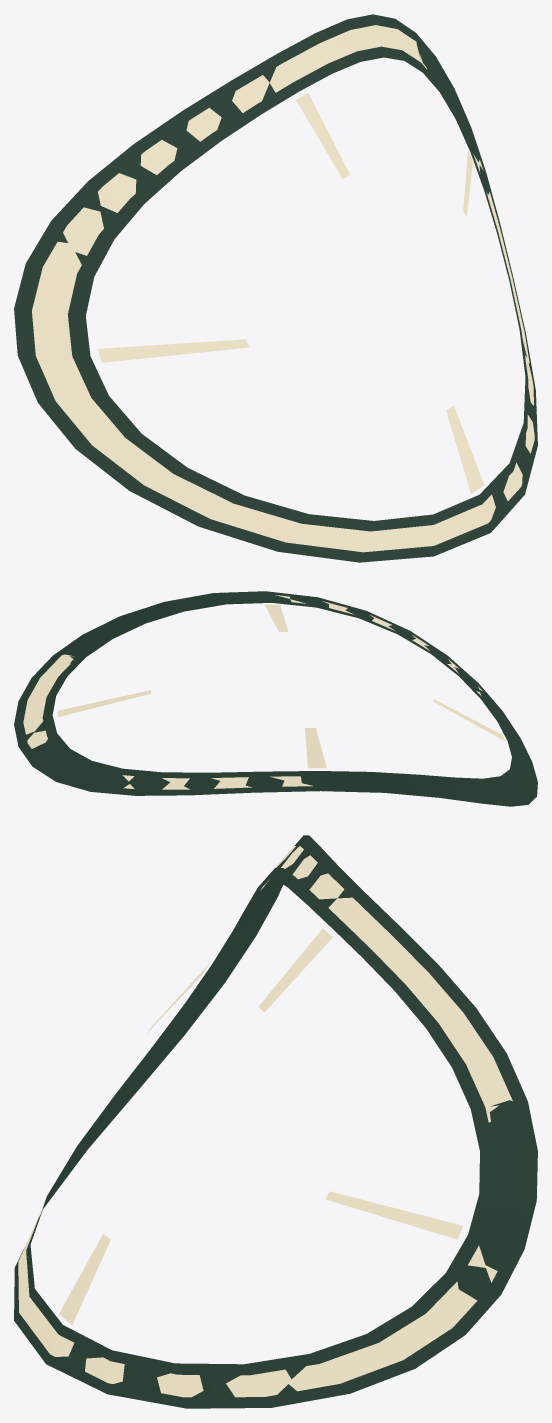
Rendered from giant_weak_point.glb.
The picture shows the model from 3 angles, top to bottom: view 1: azimuth 30°, elevation 25°; view 2: azimuth 150°, elevation 25°; view 3: azimuth 270°, elevation 25°; orthographic projection. The views are drawn at different scales.
Parts seen in each view (by area): view 1: Visible seam boundary, Ivory aiming stitch; view 2: Visible seam boundary, Ivory aiming stitch; view 3: Visible seam boundary, Ivory aiming stitch.
Boxes of the visible parts, x1,y1,x2,y2 form: Visible seam boundary: (14, 14, 537, 562); Ivory aiming stitch: (32, 25, 534, 552); Visible seam boundary: (14, 591, 537, 806); Ivory aiming stitch: (23, 595, 504, 789); Visible seam boundary: (14, 835, 537, 1408); Ivory aiming stitch: (18, 846, 512, 1397).
Size of the model in its own units: 0.2965 by 0.1911 by 0.2093.
